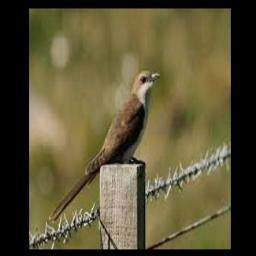Cuckoo: (50, 71, 161, 221)
